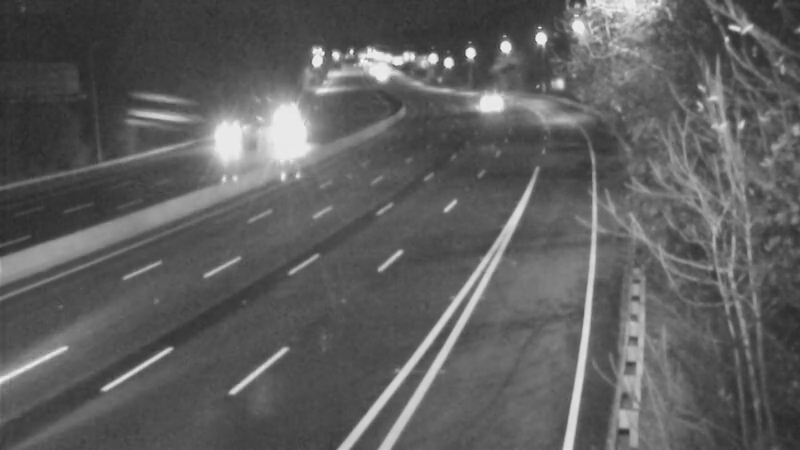vehicle: (464, 71, 514, 121), (209, 111, 259, 161), (272, 111, 322, 161), (263, 90, 313, 140)
